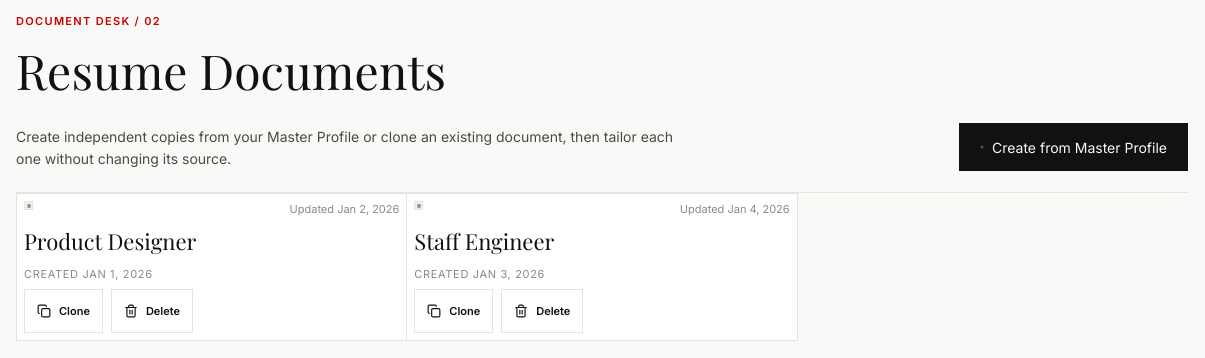
DocumentsList › clones a Resume Document into a new one
Click the button with aria-label "Clone Product Designer" at (63, 311), box [24,289,103,333]
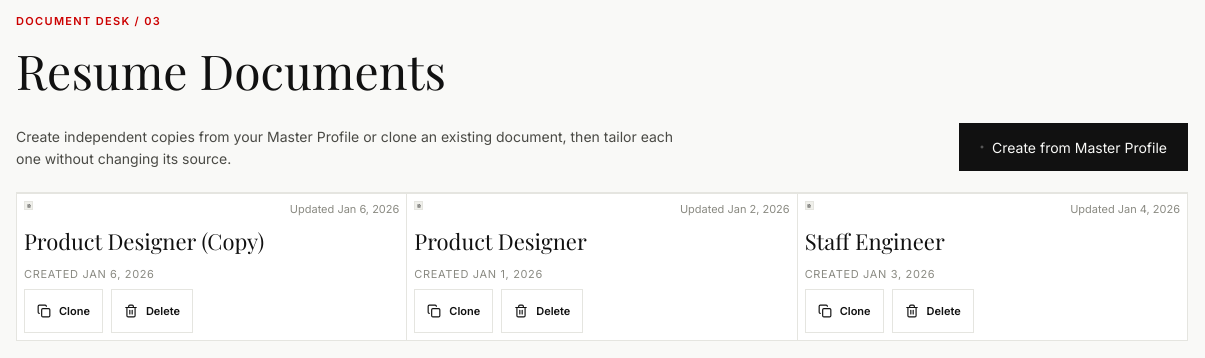
Check: the link "Product Designer (Copy)" is shown, box [24,226,264,256]
